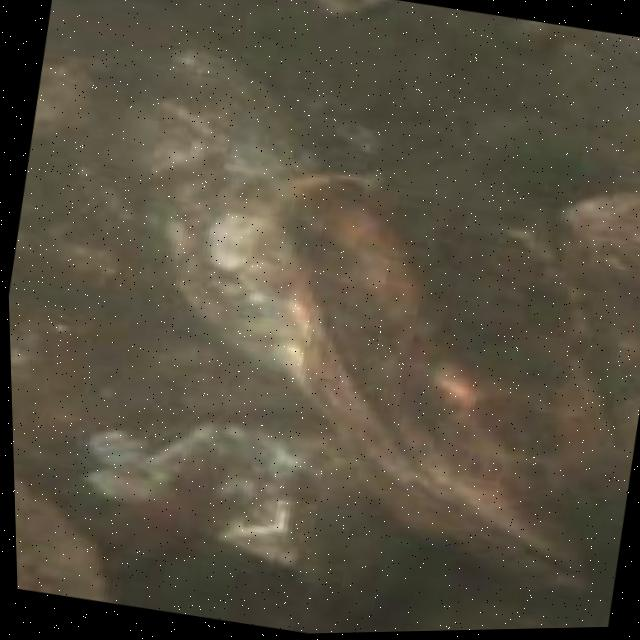Oyster-Indeterminate: (284, 172, 635, 592), (140, 57, 320, 363), (14, 476, 109, 603), (565, 193, 640, 274)
